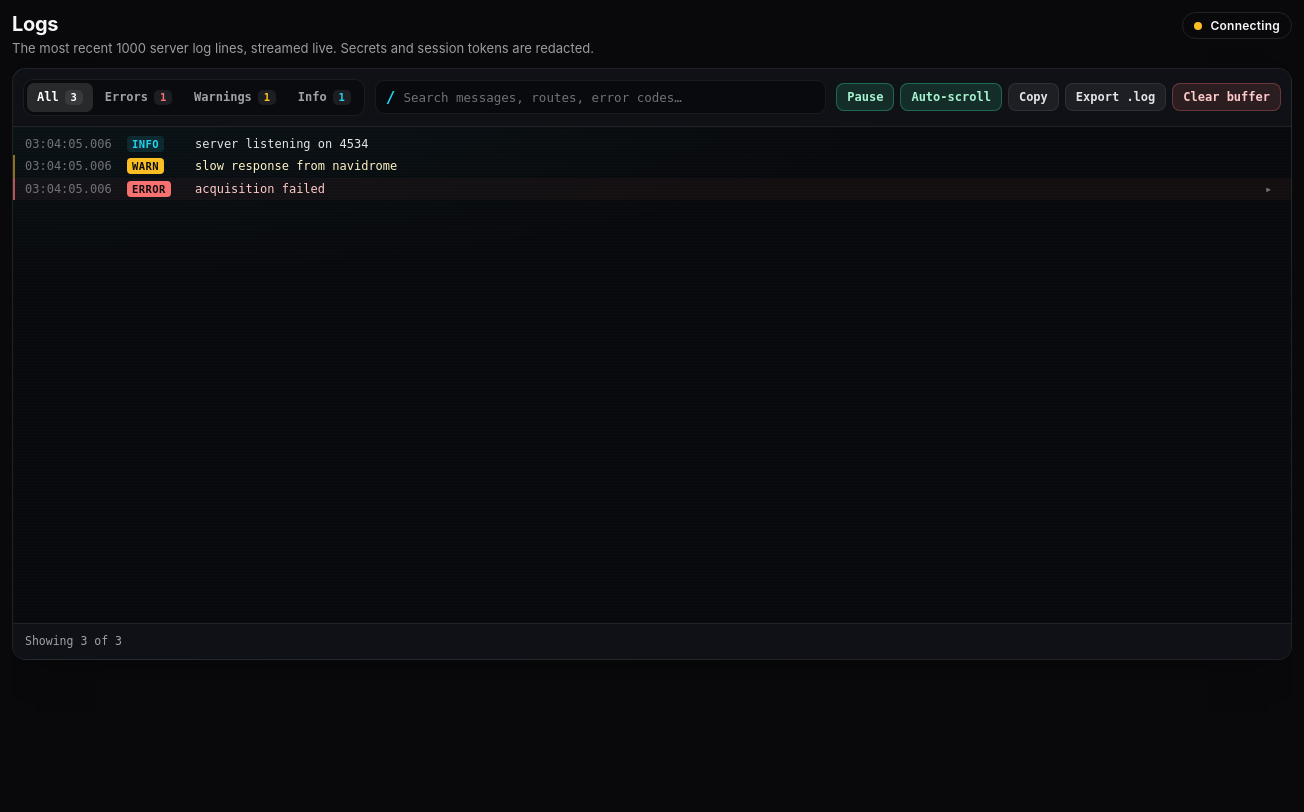
expands stack traces and metadata for an entry
Expected: the text "server listening on 4534" is shown, [195,136,368,150]
Click the button "03:04:05.006 ERROR acquisition failed ▸".
click(68, 189)  # box [15,178,1291,200]
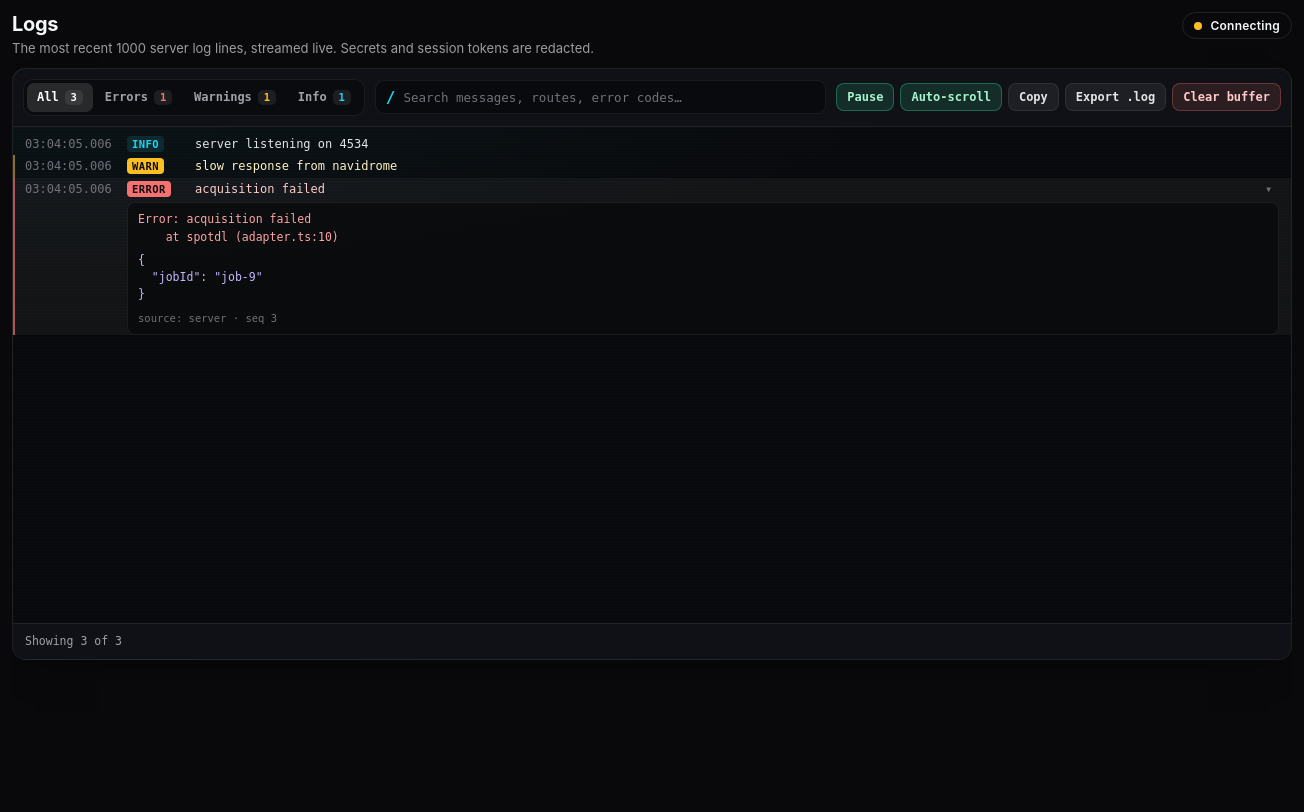
Expected: the button "03:04:05.006 ERROR acquisition failed ▾" is expanded, [15,178,1291,200]
Expected: the text "Error: acquisition failed at spotdl (adapter.ts:10)" is shown, [138,212,339,244]
Expected: the text "{ \"jobId\": \"job-9\" }" is shown, [138,253,263,301]
